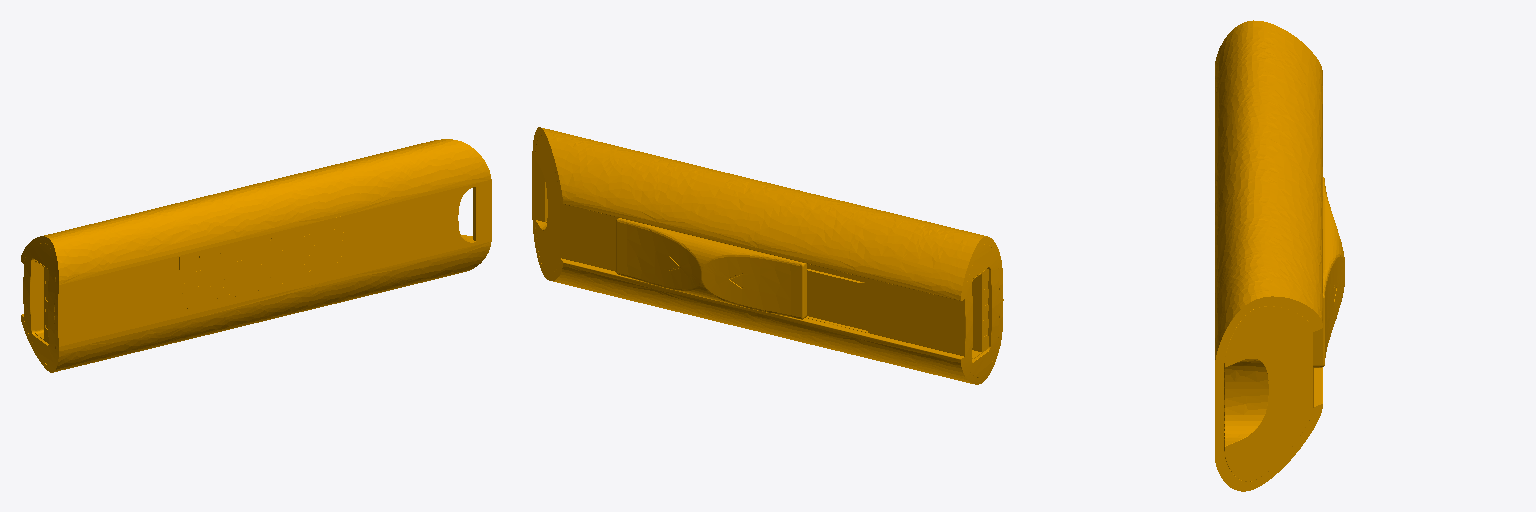
URDF robot description (usbdriver_2_L0.93_T0.91):
<?xml version="1.0" encoding="utf-8"?>
<robot name="usbdriver_2_L0.93_T0.91">
  <link name="usbdriver_2_L0.93_T0.91Link">
    <contact>
      <lateral_friction value="1"/>
    </contact>
    <inertial>
      <origin rpy="0 0 0" xyz="0 0 0"/>
      <mass value="0.0"/>
      <inertia ixx="0" ixy="0" ixz="0" iyy="0" iyz="0" izz="0"/>
    </inertial>
    <visual>
      <origin rpy="0 0 0" xyz="0 0 0"/>
      <geometry>
        <mesh filename="generated_stl/usbdriver/usbdriver_2/usbdriver_2_L0.93_T0.91/usbdriver_2_L0.93_T0.91.stl" scale="0.01 0.01 0.01"/>
      </geometry>
    </visual>
    <collision>
      <origin rpy="0 0 0" xyz="0 0 0"/>
      <geometry>
        <mesh filename="generated_stl/usbdriver/usbdriver_2/usbdriver_2_L0.93_T0.91/usbdriver_2_L0.93_T0.91.stl" scale="0.01 0.01 0.01"/>
      </geometry>
    </collision>
  </link>
</robot>

--- Render facts (derived) ---
3 views of the same robot in one strip: view 1: azimuth 30°, elevation 25°; view 2: azimuth 150°, elevation 25°; view 3: azimuth 270°, elevation 25° (orthographic).
Robot: usbdriver_2_L0.93_T0.91 — 1 links, 0 joints (none); root link usbdriver_2_L0.93_T0.91Link; default pose: all joints at 0.
Visible links, largest first — view 1: usbdriver_2_L0.93_T0.91Link; view 2: usbdriver_2_L0.93_T0.91Link; view 3: usbdriver_2_L0.93_T0.91Link.
Link boxes in pixels (x1,y1,x2,y2): usbdriver_2_L0.93_T0.91Link: (21, 139, 491, 372); usbdriver_2_L0.93_T0.91Link: (532, 127, 1003, 384); usbdriver_2_L0.93_T0.91Link: (1215, 20, 1344, 491).
Bounding box of the posed robot: 0.0463 × 0.0085 × 0.0136 m (x, y, z).
1 mesh visuals loaded from 1 distinct referenced files (1 binary STL).